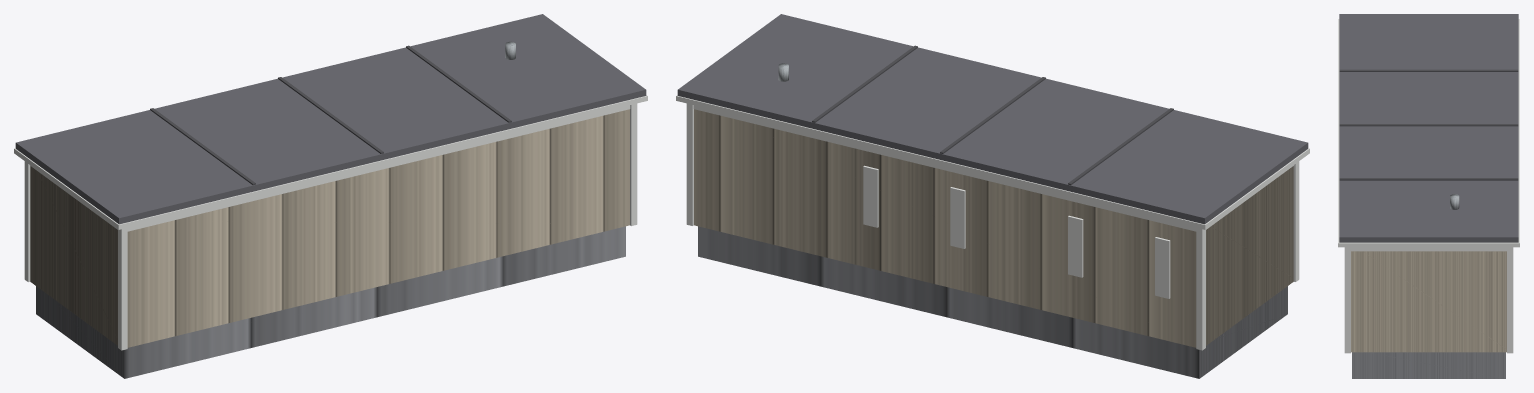
Rendered from WK_ARCH_Trailer_B.glb.
3 views of the same model, side by side, from view 1: azimuth 30°, elevation 25°; view 2: azimuth 150°, elevation 25°; view 3: azimuth 270°, elevation 25° (orthographic). The views are drawn at different scales.
Parts seen in each view (by area): view 1: WK_ARCH_Trailer_B_P01, WK_ARCH_Trailer_B_P02, WK_ARCH_Trailer_B_P04, WK_ARCH_Trailer_B_P03, WK_ARCH_Trailer_B_P05, WK_ARCH_Trailer_B_P06, WK_ARCH_Trailer_B_P08, WK_ARCH_Trailer_B_P07, WK_ARCH_Trailer_B_P10, WK_ARCH_Trailer_B_P12; view 2: WK_ARCH_Trailer_B_P01, WK_ARCH_Trailer_B_P02, WK_ARCH_Trailer_B_P04, WK_ARCH_Trailer_B_P03, WK_ARCH_Trailer_B_P05, WK_ARCH_Trailer_B_P07, WK_ARCH_Trailer_B_P09, WK_ARCH_Trailer_B_P20, WK_ARCH_Trailer_B_P17, WK_ARCH_Trailer_B_P16, WK_ARCH_Trailer_B_P19, WK_ARCH_Trailer_B_P06 (+2 smaller); view 3: WK_ARCH_Trailer_B_P02, WK_ARCH_Trailer_B_P01, WK_ARCH_Trailer_B_P04, WK_ARCH_Trailer_B_P03, WK_ARCH_Trailer_B_P05, WK_ARCH_Trailer_B_P08, WK_ARCH_Trailer_B_P09, WK_ARCH_Trailer_B_P12, WK_ARCH_Trailer_B_P10, WK_ARCH_Trailer_B_P11.
Boxes of the visible parts, <box> form: WK_ARCH_Trailer_B_P01: <box>30,109,629,347</box>; WK_ARCH_Trailer_B_P02: <box>15,14,646,224</box>; WK_ARCH_Trailer_B_P04: <box>36,226,625,378</box>; WK_ARCH_Trailer_B_P03: <box>14,95,647,229</box>; WK_ARCH_Trailer_B_P05: <box>30,105,630,231</box>; WK_ARCH_Trailer_B_P06: <box>118,228,127,350</box>; WK_ARCH_Trailer_B_P08: <box>630,103,637,225</box>; WK_ARCH_Trailer_B_P07: <box>24,161,30,281</box>; WK_ARCH_Trailer_B_P10: <box>150,108,255,185</box>; WK_ARCH_Trailer_B_P12: <box>406,45,511,122</box>; WK_ARCH_Trailer_B_P01: <box>694,109,1293,347</box>; WK_ARCH_Trailer_B_P02: <box>677,14,1308,224</box>; WK_ARCH_Trailer_B_P04: <box>698,226,1287,378</box>; WK_ARCH_Trailer_B_P03: <box>676,95,1309,229</box>; WK_ARCH_Trailer_B_P05: <box>693,105,1293,231</box>; WK_ARCH_Trailer_B_P07: <box>1196,228,1205,350</box>; WK_ARCH_Trailer_B_P09: <box>686,103,693,225</box>; WK_ARCH_Trailer_B_P20: <box>863,165,878,227</box>; WK_ARCH_Trailer_B_P17: <box>1068,215,1083,277</box>; WK_ARCH_Trailer_B_P16: <box>1155,237,1170,298</box>; WK_ARCH_Trailer_B_P19: <box>950,187,965,248</box>; WK_ARCH_Trailer_B_P06: <box>1293,161,1299,281</box>; WK_ARCH_Trailer_B_P02: <box>1339,14,1518,242</box>; WK_ARCH_Trailer_B_P01: <box>1351,251,1506,352</box>; WK_ARCH_Trailer_B_P04: <box>1352,352,1505,378</box>; WK_ARCH_Trailer_B_P03: <box>1338,19,1519,247</box>; WK_ARCH_Trailer_B_P05: <box>1351,247,1506,251</box>; WK_ARCH_Trailer_B_P08: <box>1344,247,1350,353</box>; WK_ARCH_Trailer_B_P09: <box>1507,247,1513,353</box>; WK_ARCH_Trailer_B_P12: <box>1339,178,1518,180</box>; WK_ARCH_Trailer_B_P10: <box>1339,69,1518,71</box>; WK_ARCH_Trailer_B_P11: <box>1339,124,1518,126</box>.
Bounding box in the file's own units: 10.34 × 3.42 × 3.54.
Materials: 7 (3 with a texture image).
